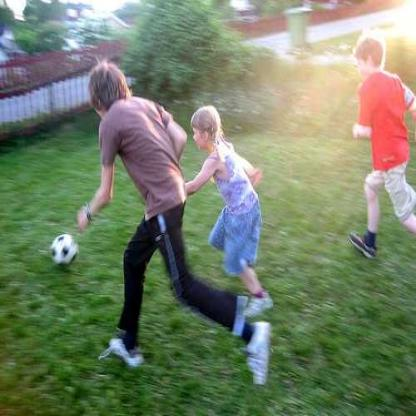ball: (52, 234, 78, 268)
